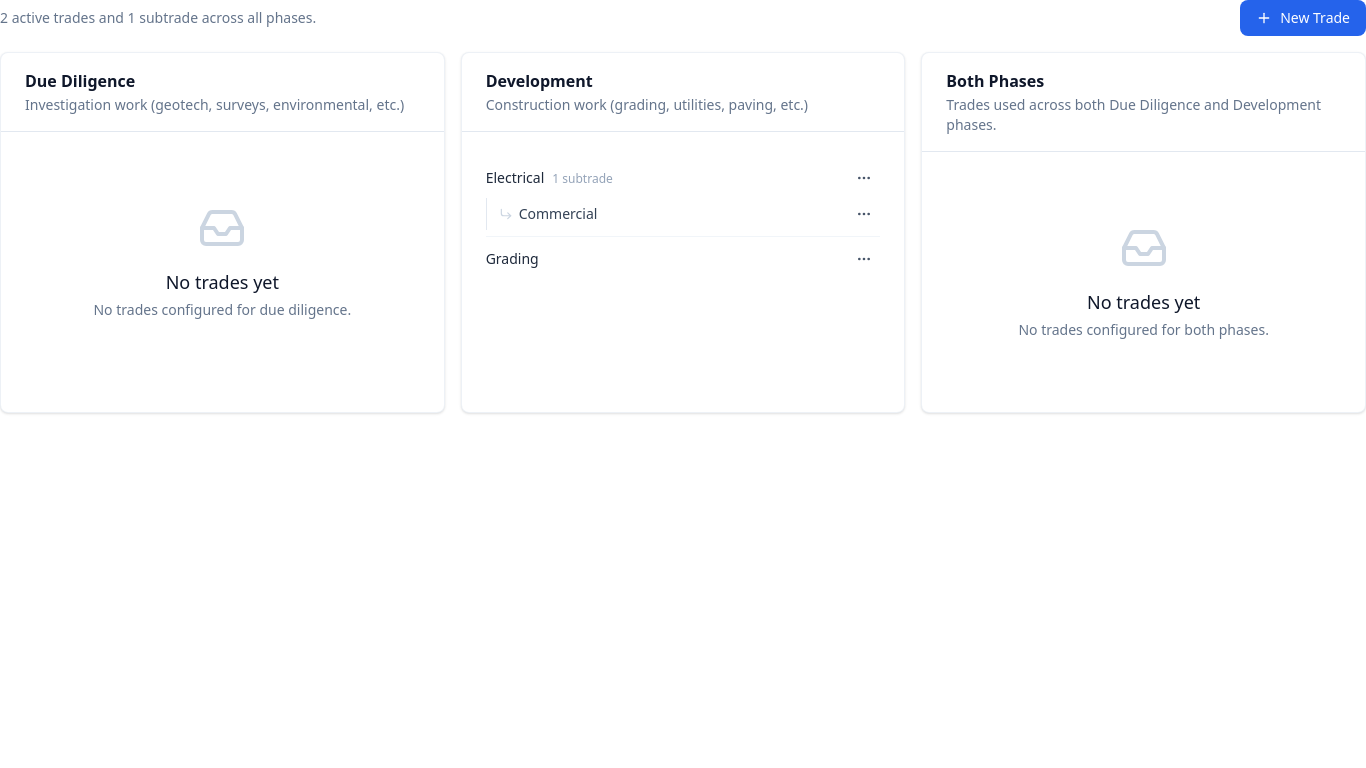
Test: TradeManagementPanel › refuses to delete a trade that is in use and says why
Click the button named "actions for grading" at x=864, y=259, box [848,243,880,275]
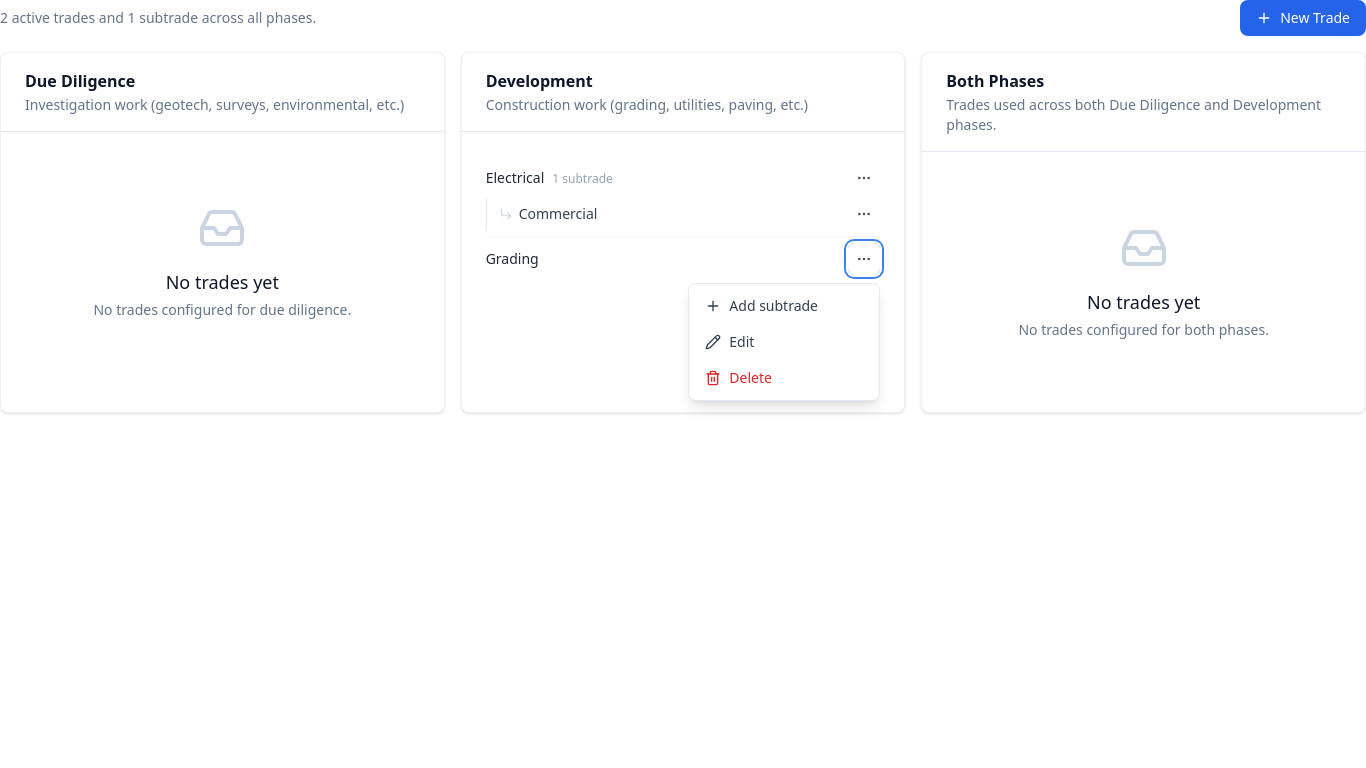
Click the menu item "Delete" at x=784, y=378, box [689,360,879,396]
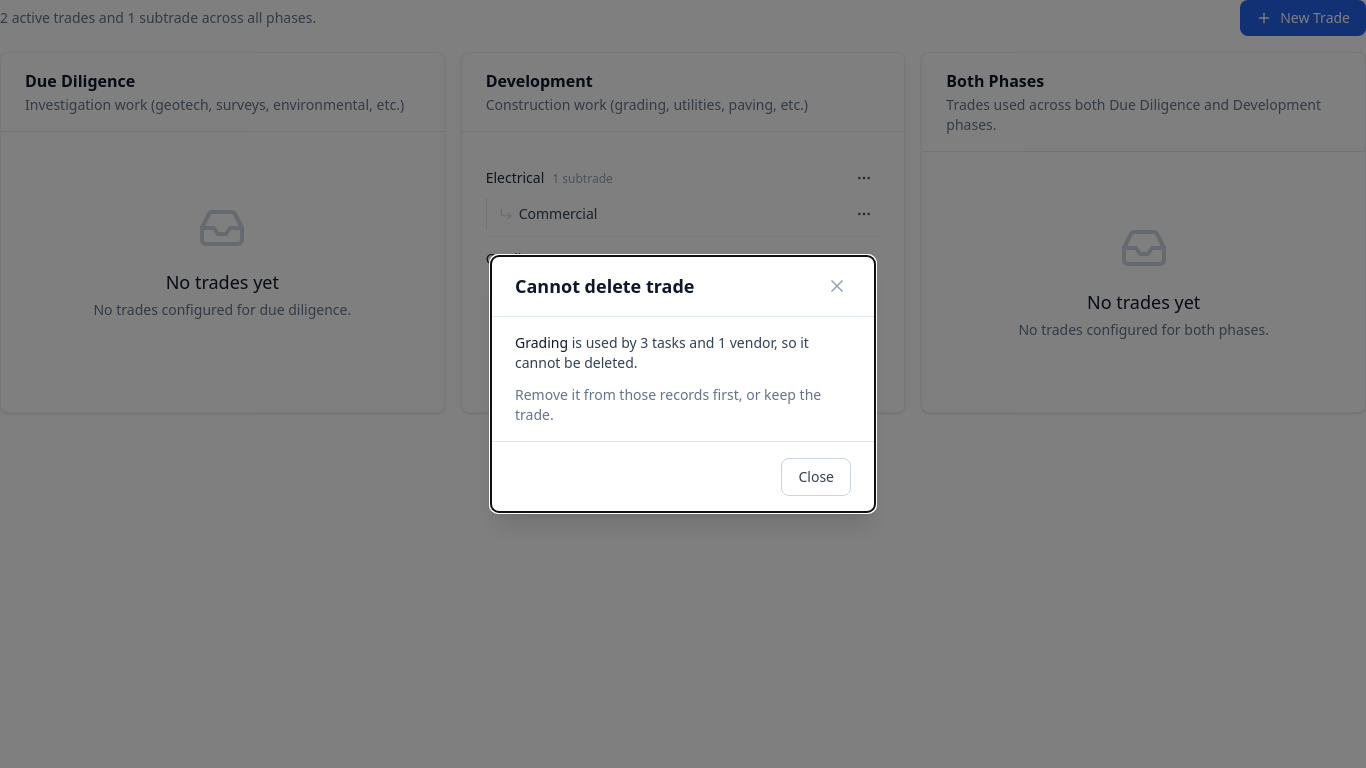
expect the text "used by 3 tasks and 1 vendor" is shown: met, box [515,333,851,373]
